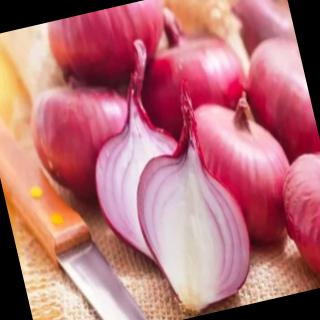Bawang Merah: (6, 1, 320, 320), (64, 25, 264, 320)
